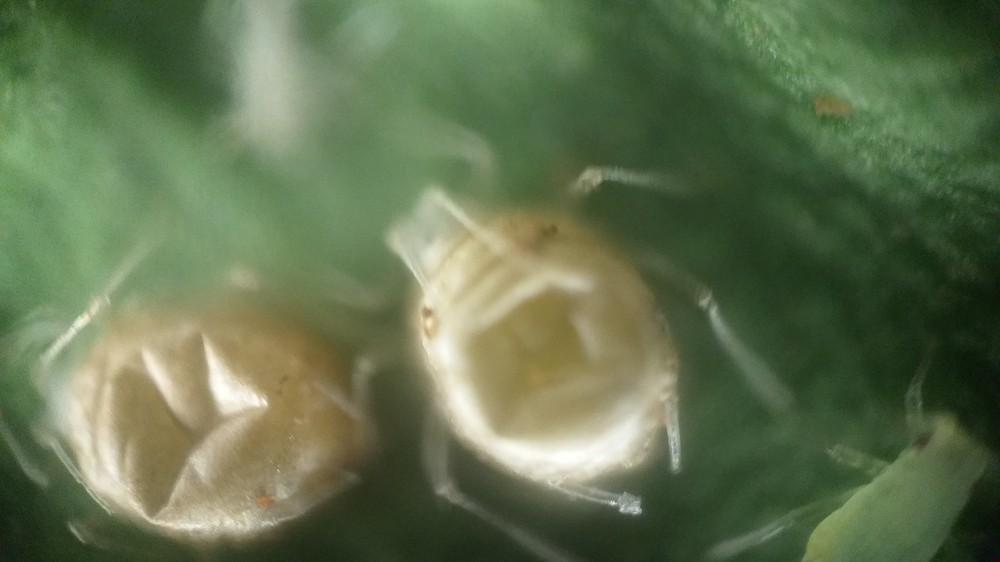Pulgon: (321, 154, 813, 556), (10, 262, 392, 560), (783, 360, 994, 562)
